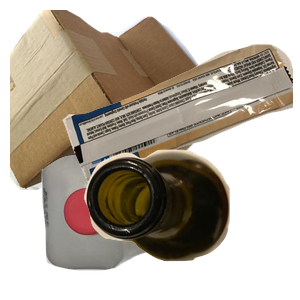cardboard: (10, 10, 206, 190)
glass: (82, 147, 300, 300)
plastic: (39, 149, 203, 300)
trash: (60, 42, 300, 219)
